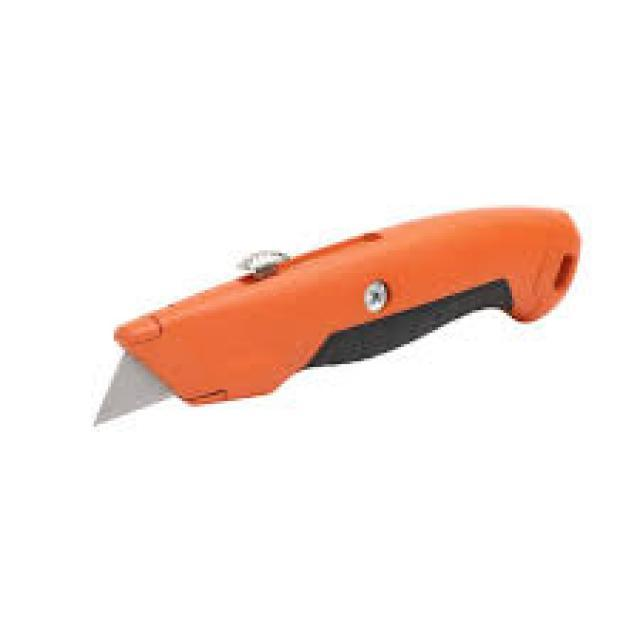cutter: (77, 198, 590, 441)
